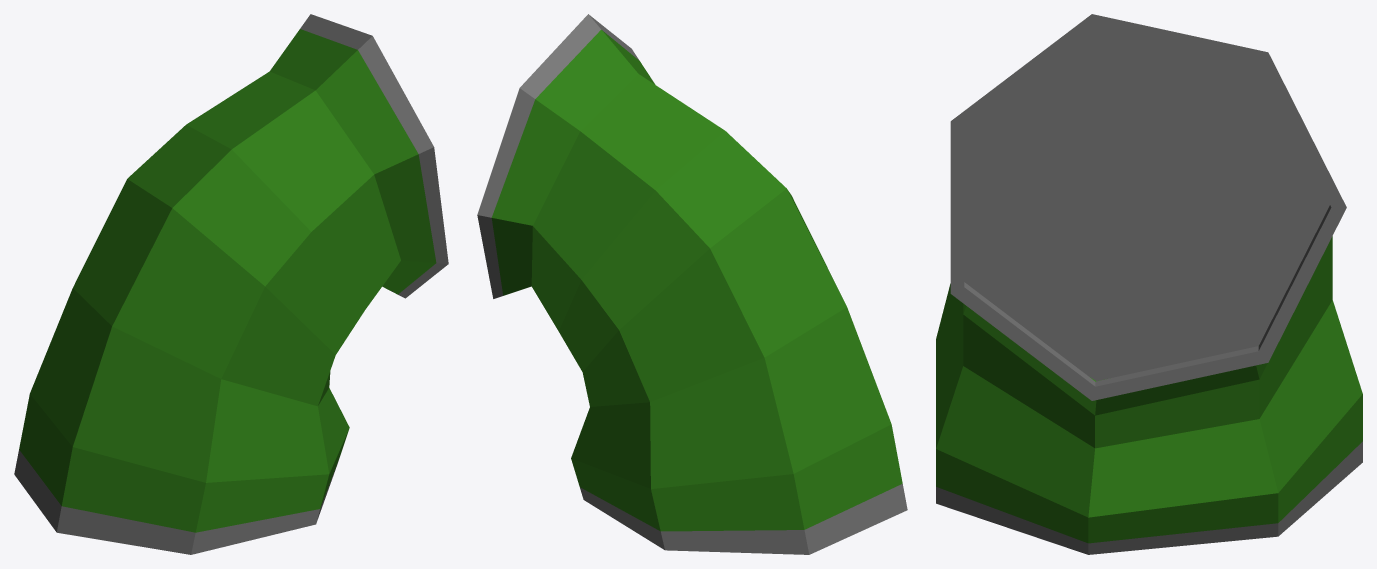
File: GreenCan004.fbx
3 renders of one model, left to right at view 1: azimuth 30°, elevation 25°; view 2: azimuth 150°, elevation 25°; view 3: azimuth 270°, elevation 25°, orthographic. The views are drawn at different scales.
Visible parts, largest first — view 1: CanGreen004; view 2: CanGreen004; view 3: CanGreen004.
Boxes of the visible parts, x1,y1,x2,y2 form: CanGreen004: (14, 14, 448, 554); CanGreen004: (477, 14, 907, 554); CanGreen004: (936, 14, 1362, 554).
Size of the model in its own units: 83.25 by 95.13 by 65.11.
